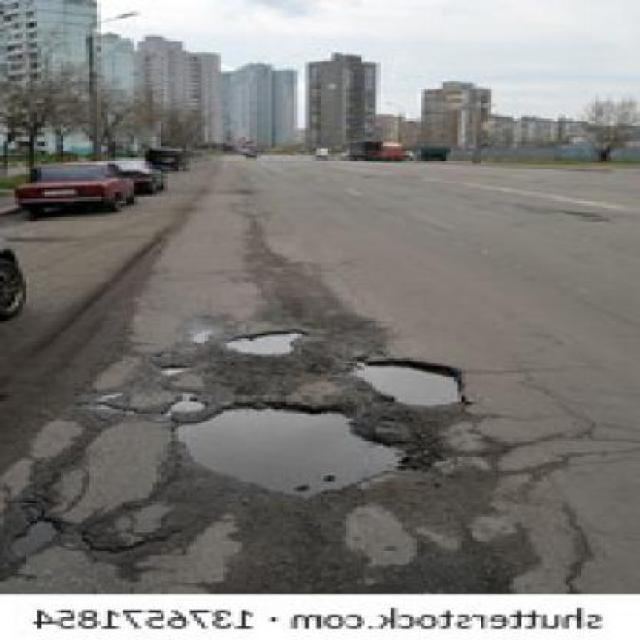Pothole: (178, 409, 400, 493), (354, 359, 462, 406), (225, 334, 302, 356)
